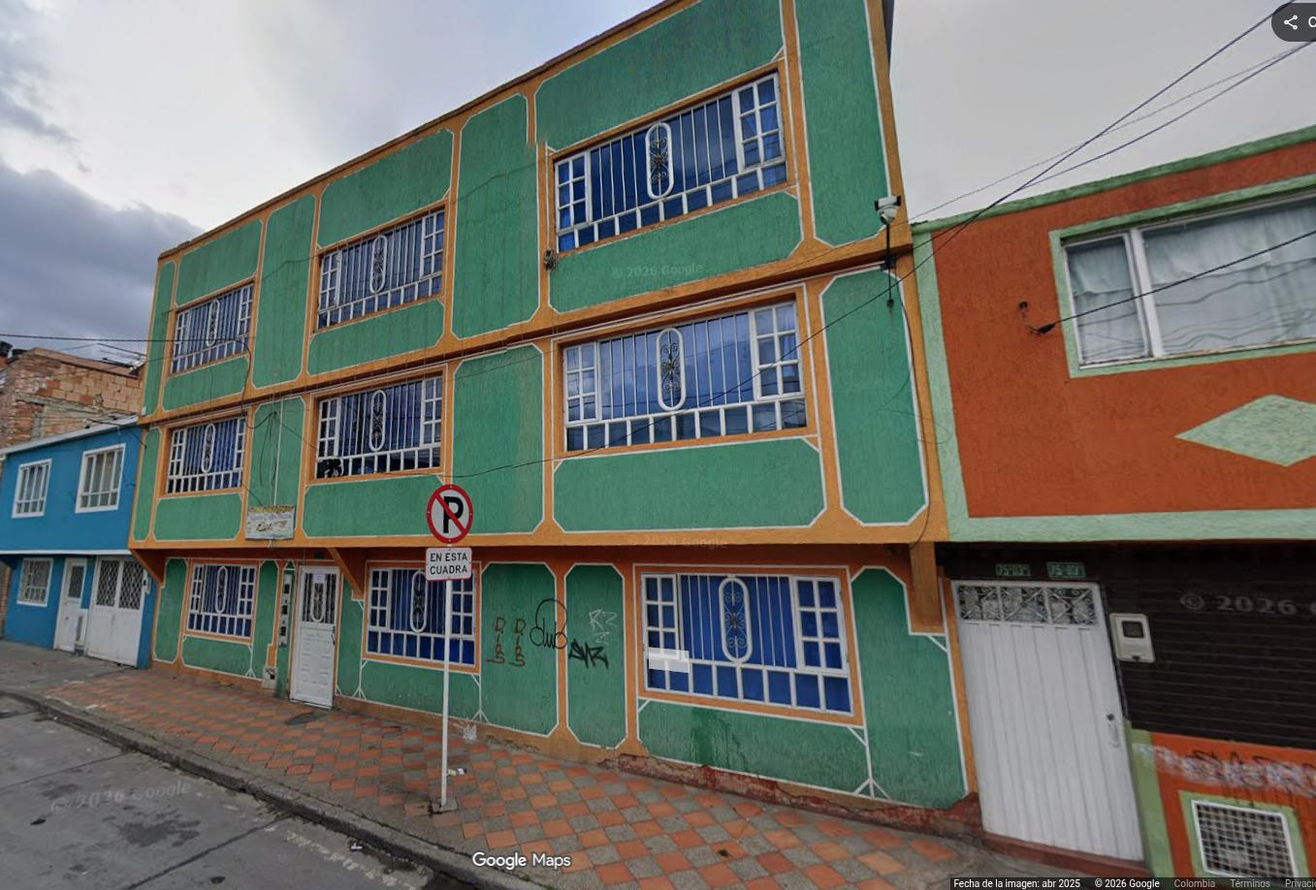casa: (129, 0, 969, 827), (914, 126, 1315, 874), (0, 418, 155, 666)
